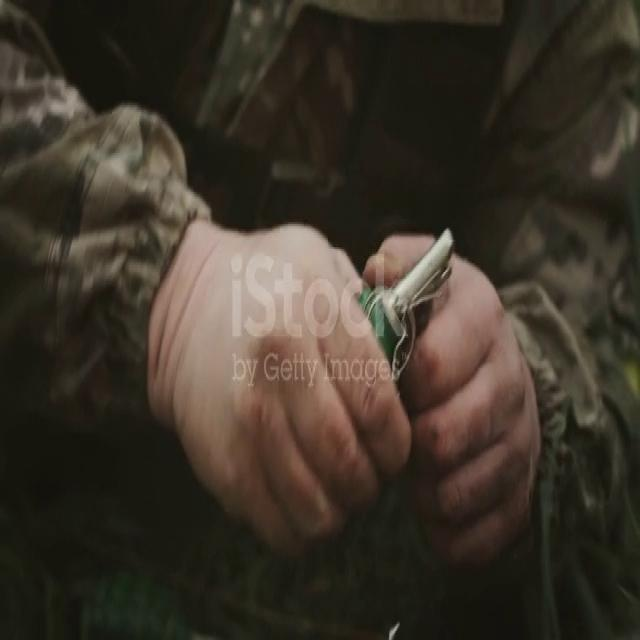grenade: (372, 225, 462, 363)
